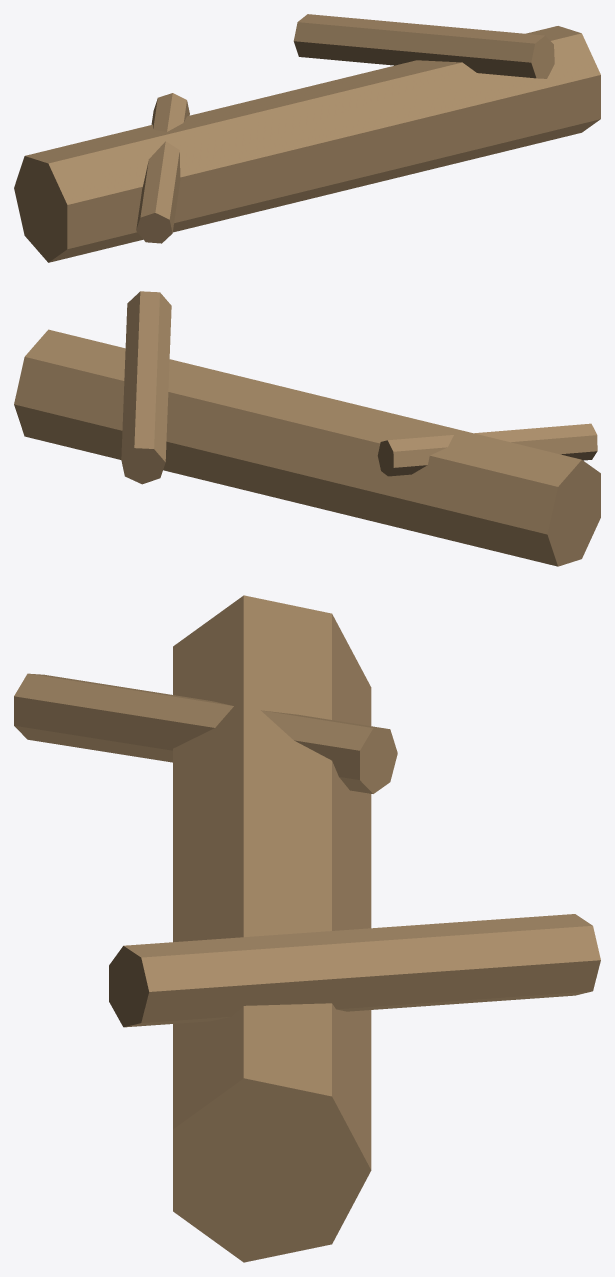
File: SM_Driftwood_A.glb
The picture shows the model from 3 angles, top to bottom: view 1: azimuth 30°, elevation 25°; view 2: azimuth 150°, elevation 25°; view 3: azimuth 270°, elevation 25°; orthographic projection. The views are drawn at different scales.
Parts seen in each view (by area): view 1: SM_Driftwood_A; view 2: SM_Driftwood_A; view 3: SM_Driftwood_A.
Boxes of the visible parts, left/top/right/bottom form: SM_Driftwood_A: left=14, top=14, right=600, bottom=262; SM_Driftwood_A: left=14, top=291, right=600, bottom=566; SM_Driftwood_A: left=14, top=595, right=600, bottom=1262.
Bounding box in the file's own units: 4.6 × 1.1 × 2.36.
